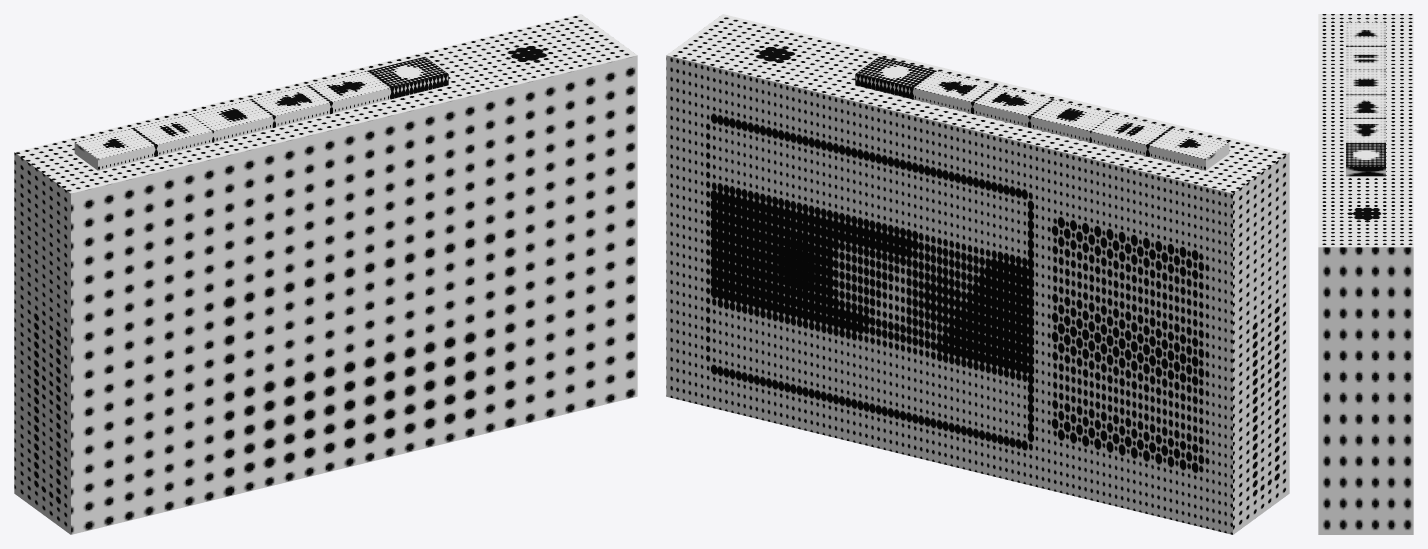
Rendered from tape_recorder.glb.
3 views of the same model, side by side, from view 1: azimuth 30°, elevation 25°; view 2: azimuth 150°, elevation 25°; view 3: azimuth 270°, elevation 25° (orthographic). The views are drawn at different scales.
Visible parts, largest first — view 1: Cube; view 2: Cube; view 3: Cube.
Part boxes in pixels (x1,y1,x2,y2): Cube: (14,14,637,534); Cube: (666,14,1289,534); Cube: (1318,14,1413,534).
Bounding box in the file's own units: 4.47 × 2.66 × 0.7728.
Materials: 1 (1 with a texture image).
